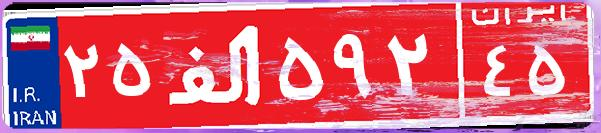2: (385, 28, 445, 110), (57, 26, 110, 107)
4: (475, 38, 525, 113)
5: (273, 28, 330, 110), (110, 28, 158, 105), (525, 38, 570, 115)
9: (330, 28, 385, 110)
الف: (158, 15, 273, 115)
